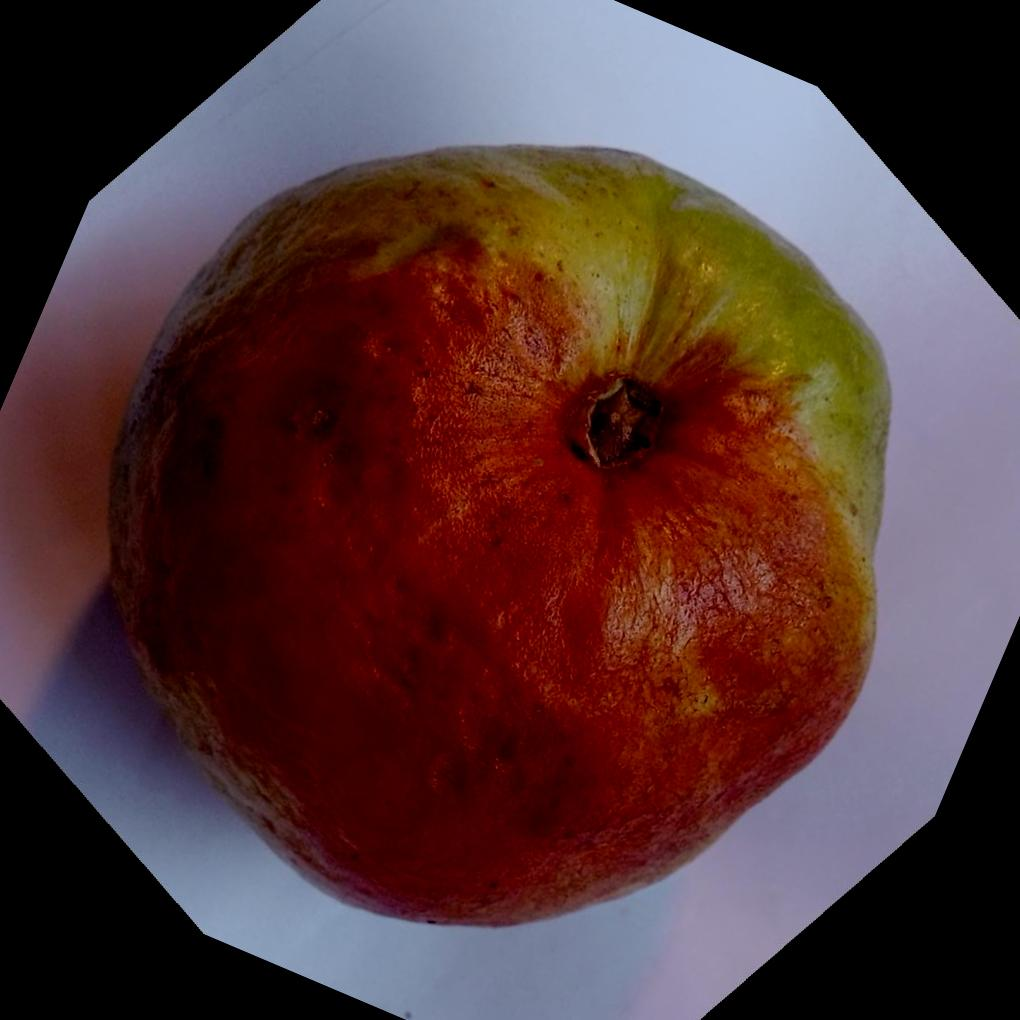FreshOrange: (101, 140, 891, 928)
